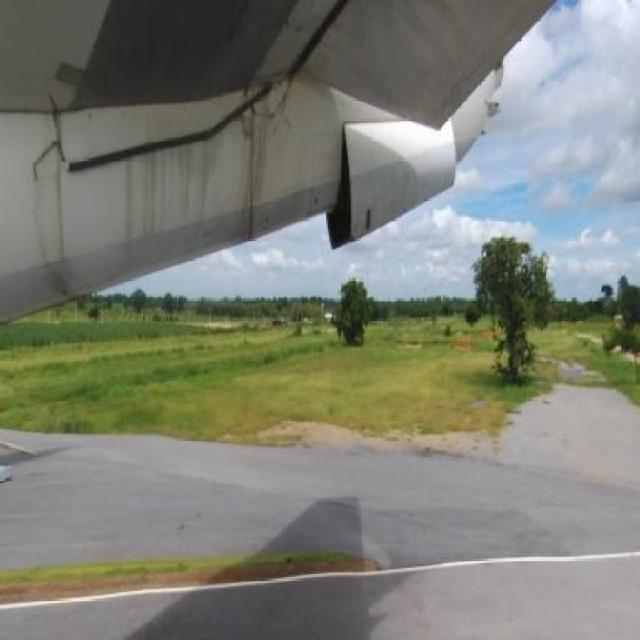Rust: (117, 124, 229, 244), (25, 128, 84, 306), (240, 89, 282, 242)
